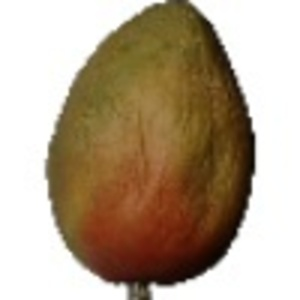mamão: (39, 5, 264, 286)
